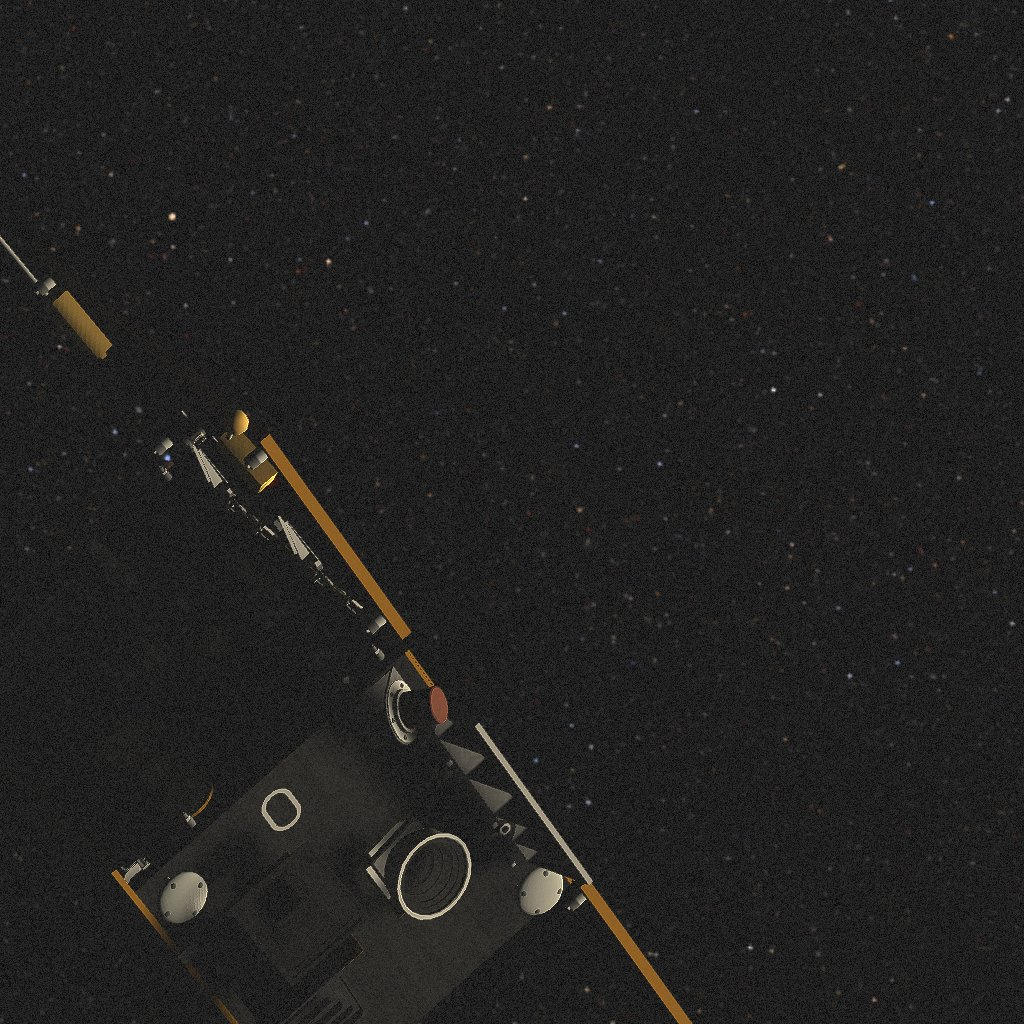proba_2: (0, 237, 692, 1024)
